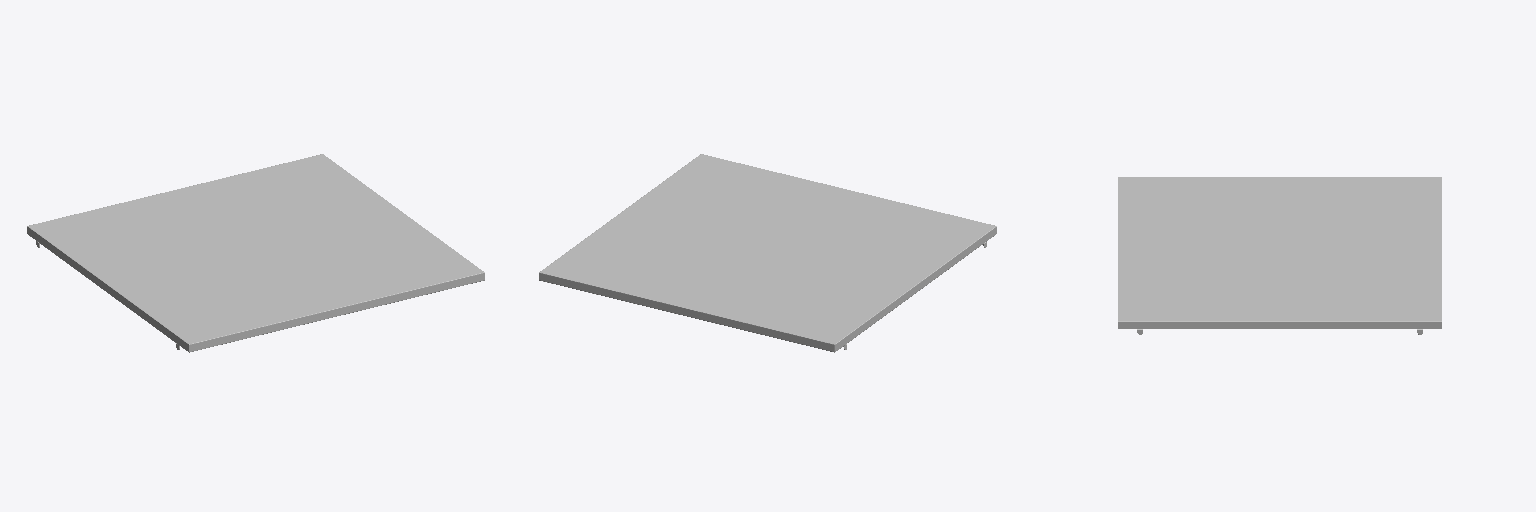
File: Kitchen01Shelf.obj
3 renders of one model, left to right at view 1: azimuth 30°, elevation 25°; view 2: azimuth 150°, elevation 25°; view 3: azimuth 270°, elevation 25°, orthographic.
Parts seen in each view (by area): view 1: SM_Kitchen_01_Shelf_9; view 2: SM_Kitchen_01_Shelf_9; view 3: SM_Kitchen_01_Shelf_9.
Boxes of the visible parts, <box> form: SM_Kitchen_01_Shelf_9: <box>27,154,484,352</box>; SM_Kitchen_01_Shelf_9: <box>539,154,996,352</box>; SM_Kitchen_01_Shelf_9: <box>1118,177,1441,334</box>.
Size of the model in its own units: 56.19 by 2.49 by 53.29.